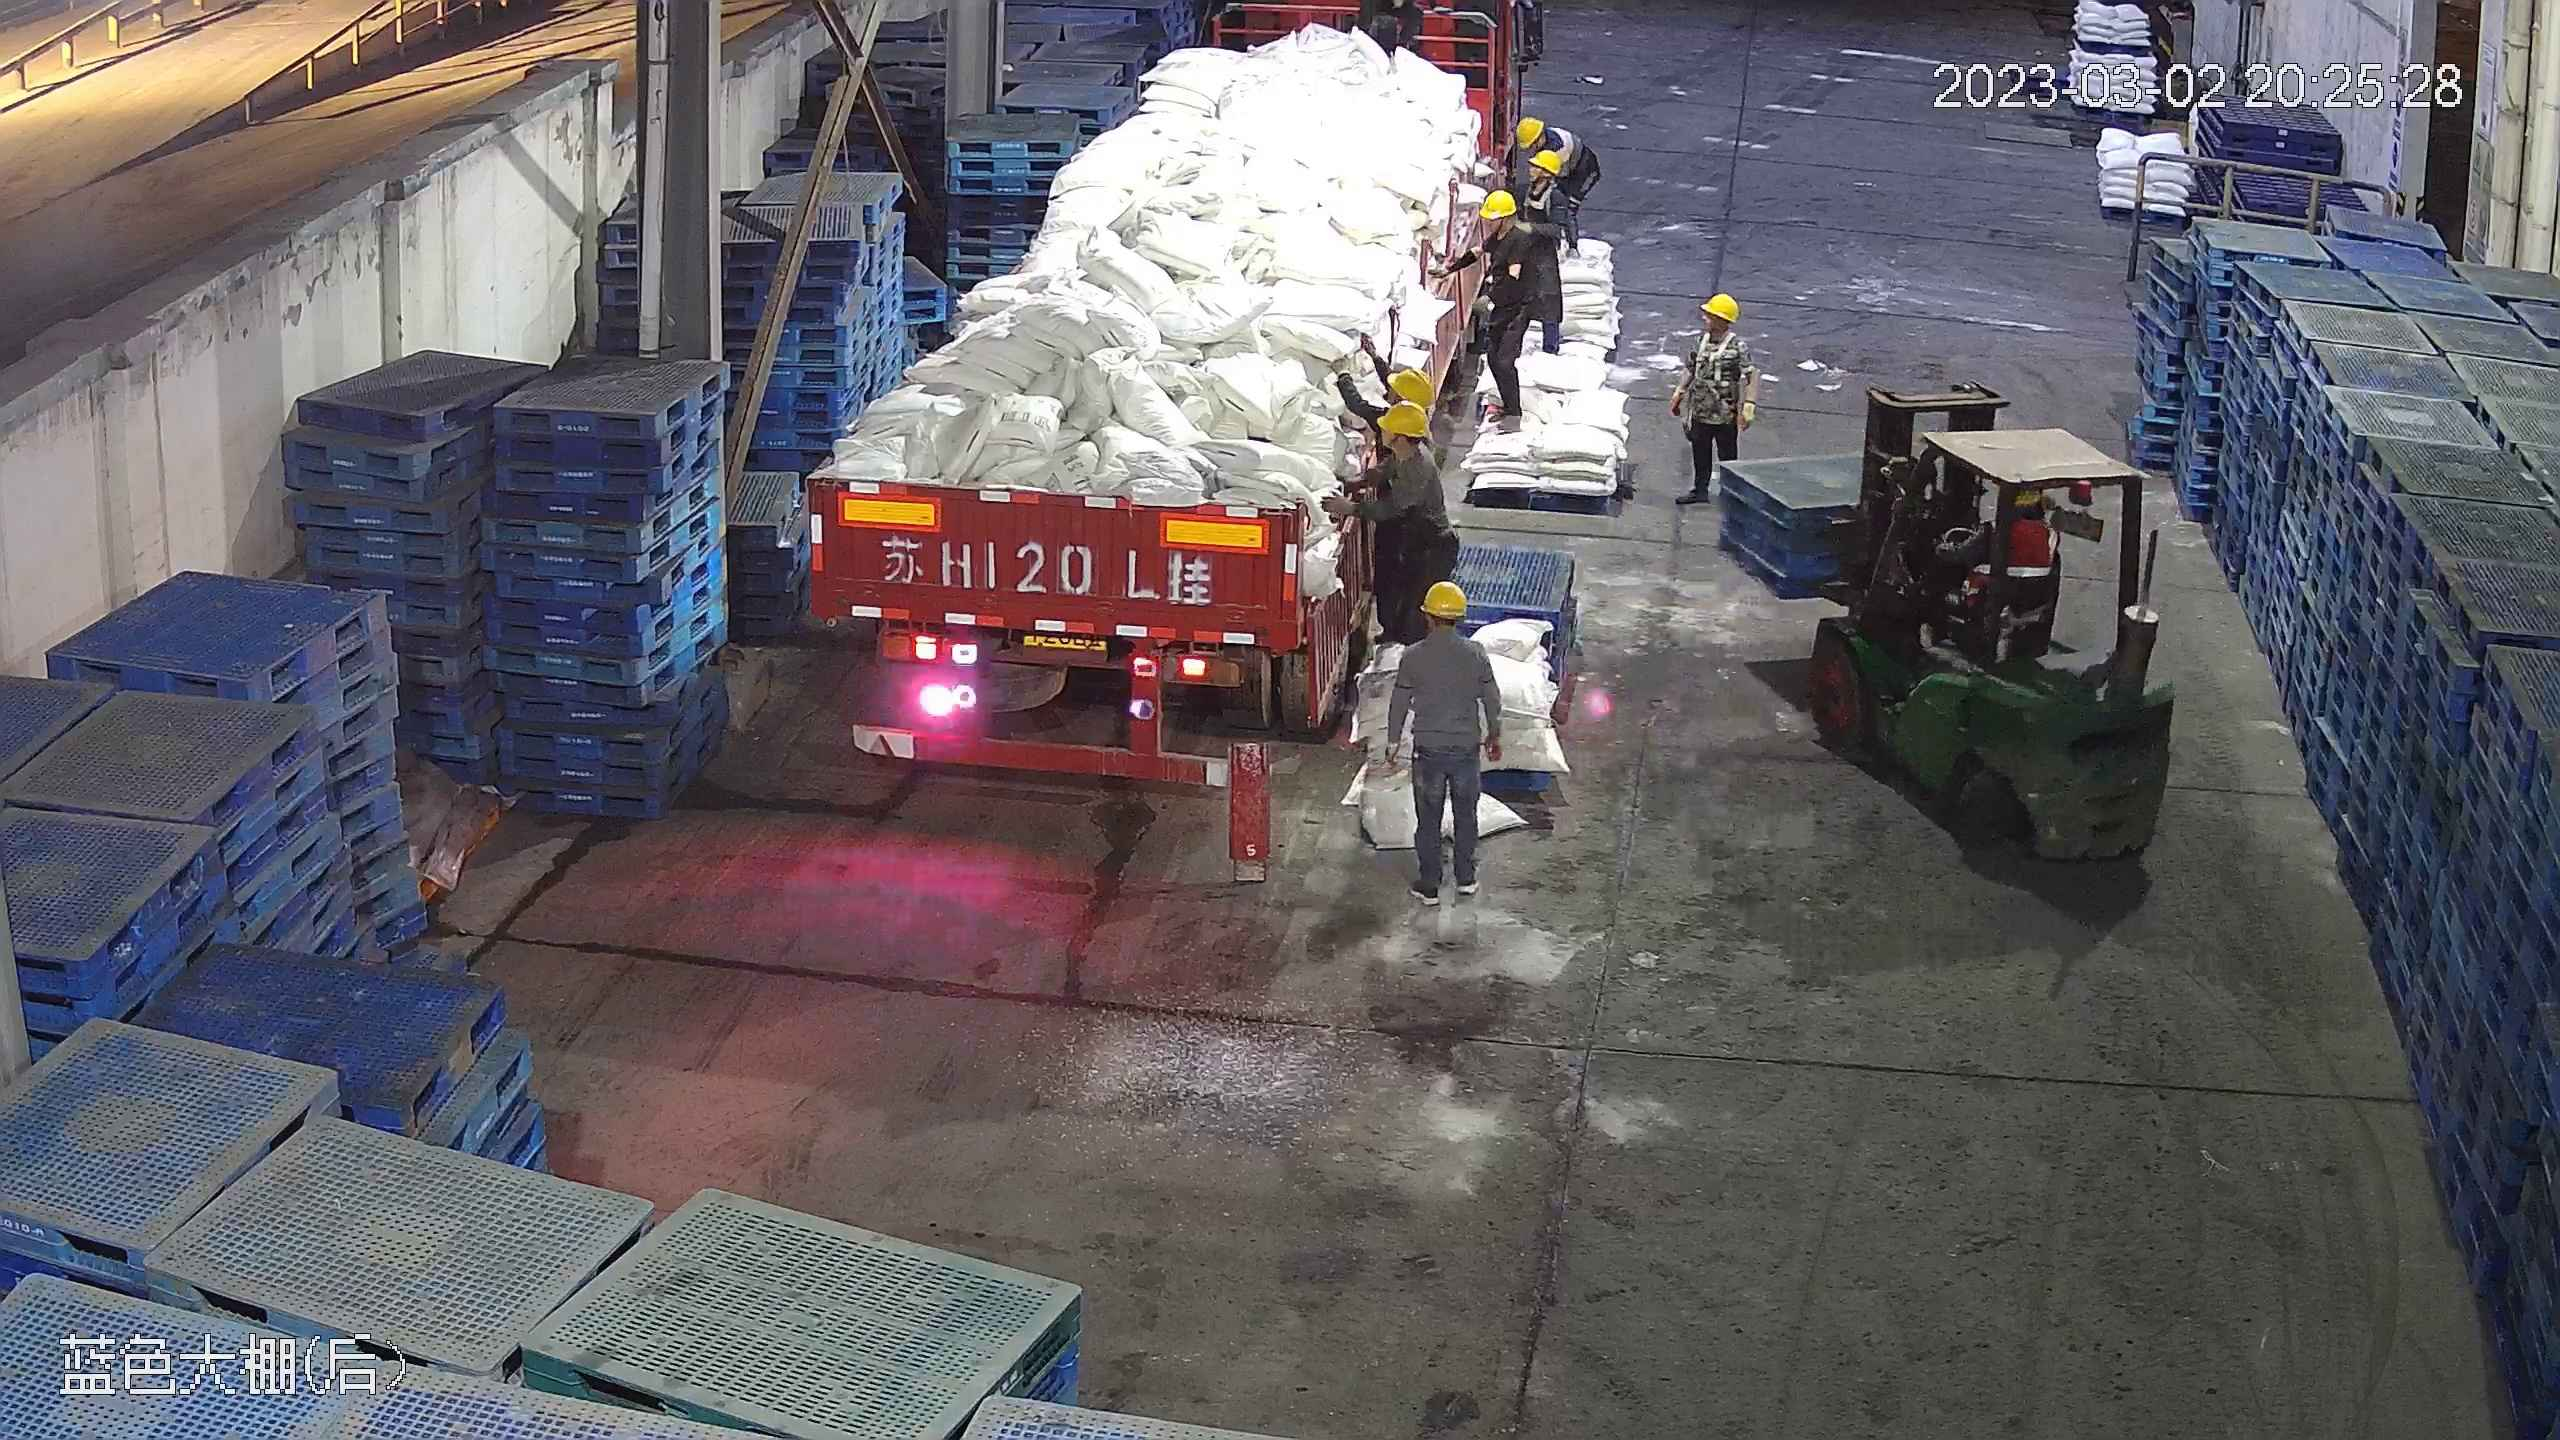belt: (1692, 334, 1741, 386)
head: (1396, 577, 1490, 684), (1372, 407, 1443, 499), (1464, 188, 1530, 268), (1683, 292, 1748, 369), (1517, 147, 1571, 205)
helmet: (1378, 401, 1431, 448), (1387, 365, 1432, 404), (1420, 578, 1466, 615), (1477, 189, 1519, 219), (1521, 119, 1551, 154), (1700, 292, 1738, 318), (1530, 149, 1559, 175)
people: (1334, 384, 1450, 755), (1384, 575, 1500, 902), (1928, 484, 2060, 652), (1449, 186, 1535, 434), (1672, 290, 1752, 513), (1509, 142, 1573, 355)
truck: (794, 7, 1502, 796)
